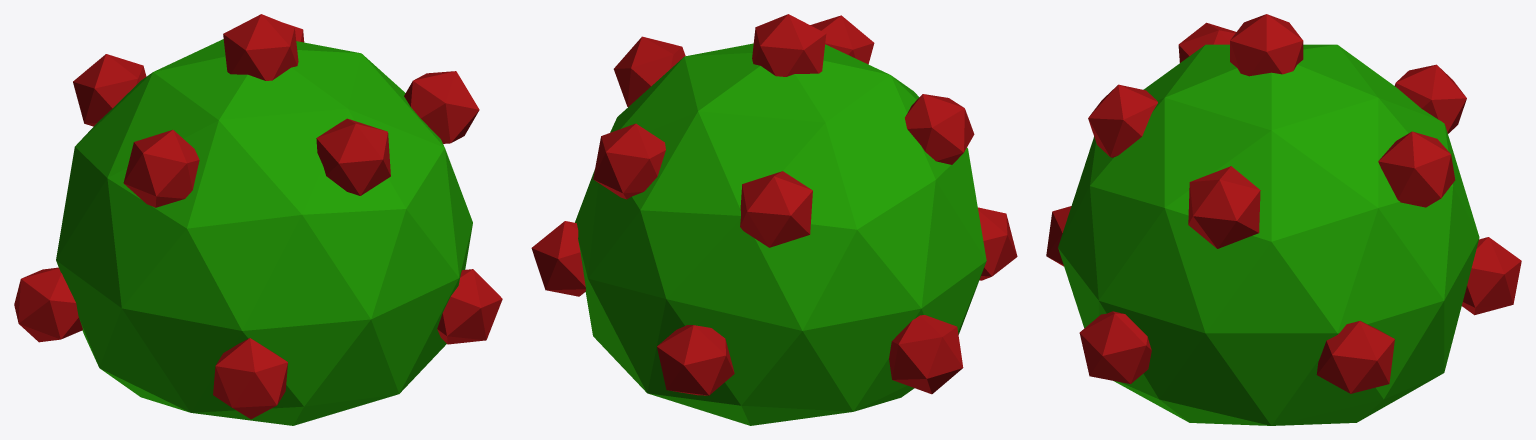
The model's file is BarryTree.fbx.
The picture shows the model from 3 angles, left to right: view 1: azimuth 30°, elevation 25°; view 2: azimuth 150°, elevation 25°; view 3: azimuth 270°, elevation 25°; orthographic projection.
Parts seen in each view (by area): view 1: Icosphere; view 2: Icosphere; view 3: Icosphere.
Part boxes in pixels (x1,y1,x2,y2): Icosphere: (14,14,502,425); Icosphere: (531,14,1017,425); Icosphere: (1046,14,1521,425).
Bounding box in the file's own units: 225 × 185 × 223.
